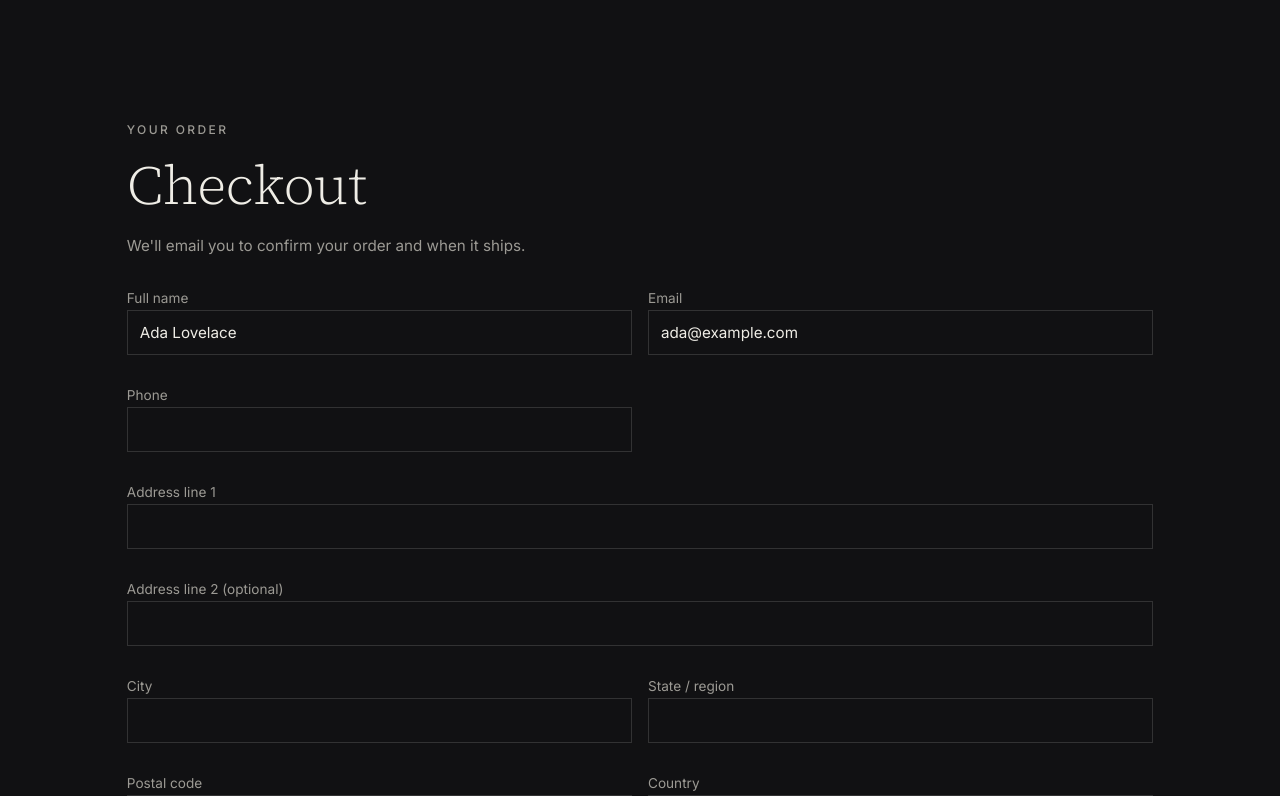
Test: CheckoutPage › shows a validation error for every required field when the form is submitted empty
Clear the field labelled "Full name". click: (379, 333)
box: [127,310,632,355]
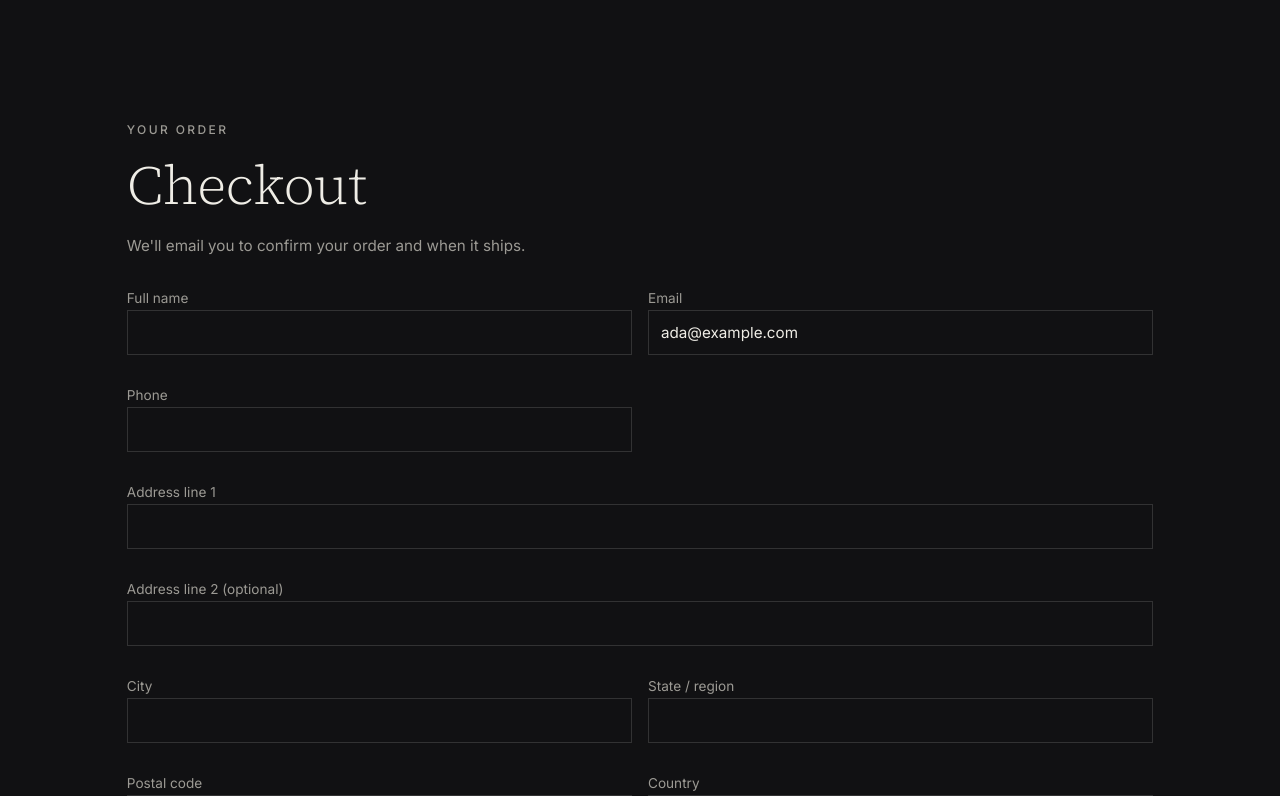
Clear the field labelled "Email". click: (901, 333)
box: [648,310,1153,355]
(page scrolled)
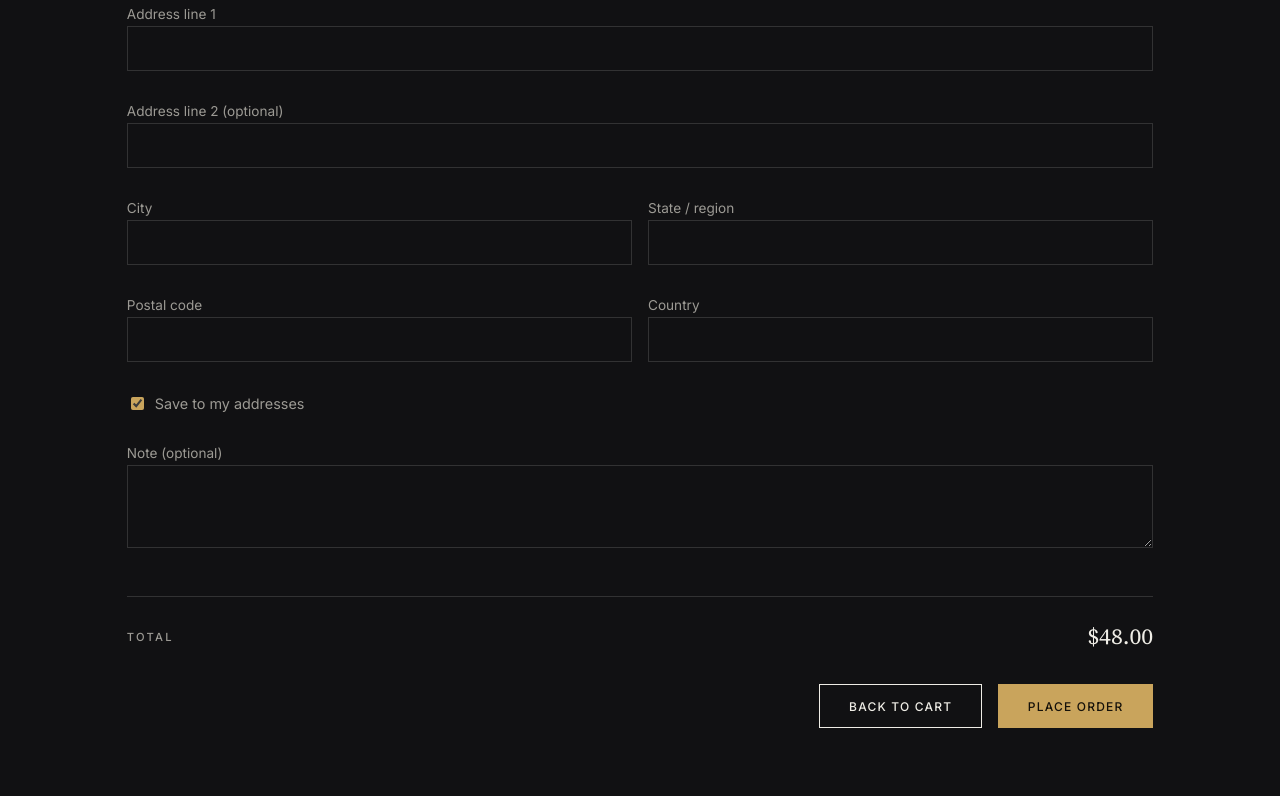
Click the button "Place order". click: (1076, 706)
box: [998,684,1153,728]
(page scrolled)
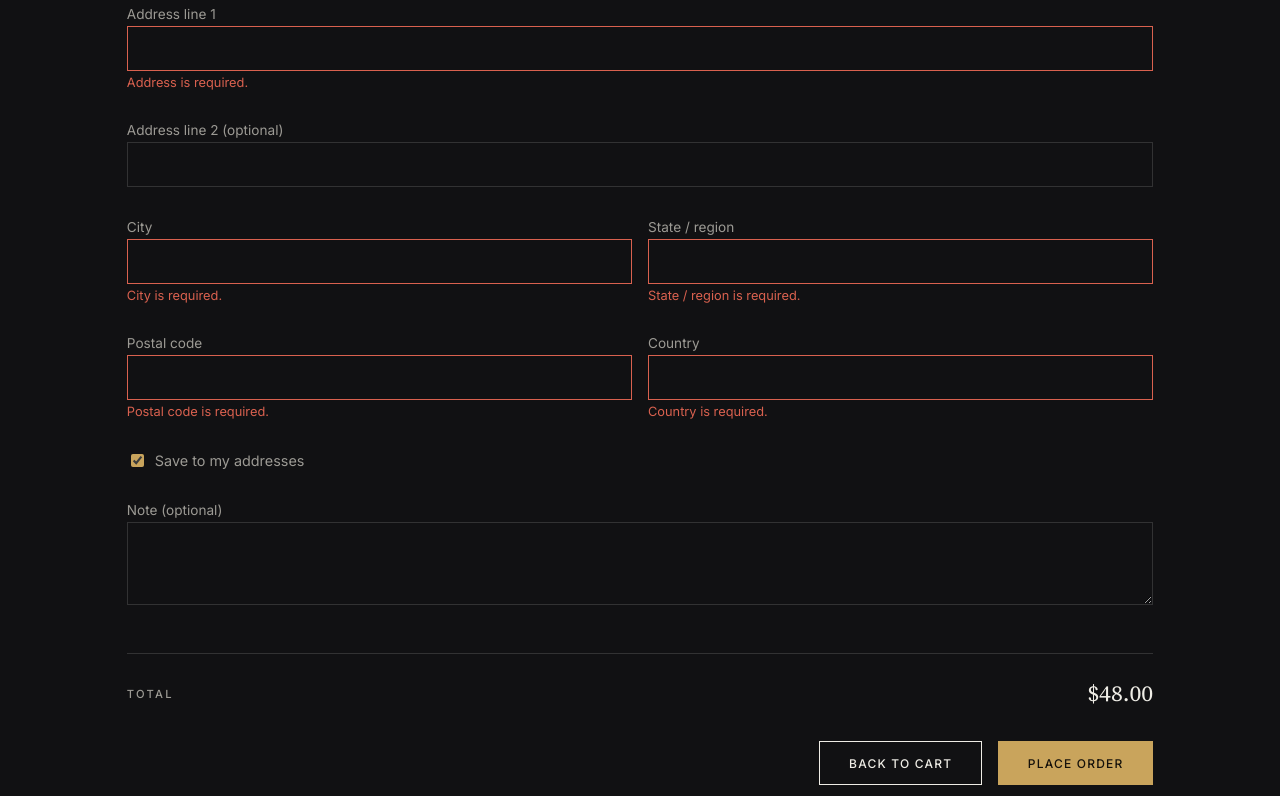
Check: the text "Address is required." is shown, box [127,75,248,90]
Check: the text "City is required." is shown, box [127,288,222,303]
Check: the text "State / region is required." is shown, box [648,288,800,303]
